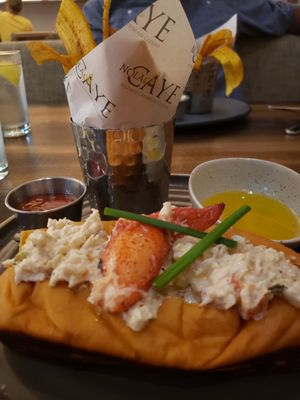pizza: (63, 1, 197, 218)
sushi: (188, 156, 300, 257), (4, 176, 87, 230)
